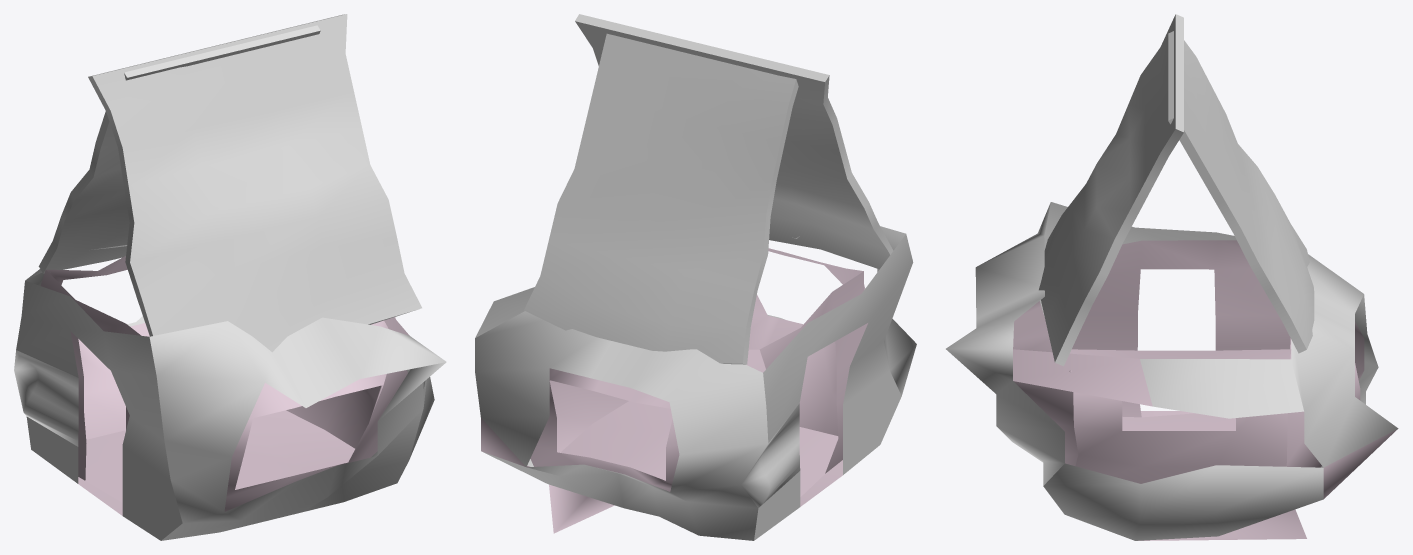
Rendered from warpedhouse3.fbx.
3 renders of one model, left to right at view 1: azimuth 30°, elevation 25°; view 2: azimuth 150°, elevation 25°; view 3: azimuth 270°, elevation 25°, orthographic. The views are drawn at different scales.
Parts seen in each view (by area): view 1: pCube60, pCube1, pCube94, pCube58; view 2: pCube58, pCube1, pCube94, pCube60; view 3: pCube1, pCube94, pCube60, pCube58.
Part boxes in pixels (bbox=[...]): pCube60: bbox=[88, 14, 421, 352]; pCube1: bbox=[14, 245, 446, 540]; pCube94: bbox=[40, 256, 407, 511]; pCube58: bbox=[38, 25, 320, 273]; pCube58: bbox=[524, 33, 798, 364]; pCube1: bbox=[475, 226, 916, 540]; pCube94: bbox=[530, 248, 867, 496]; pCube60: bbox=[575, 14, 893, 269]; pCube1: bbox=[946, 202, 1398, 540]; pCube94: bbox=[1013, 240, 1364, 483]; pCube60: bbox=[1039, 14, 1183, 366]; pCube58: bbox=[1168, 31, 1314, 353].
Size of the model in its own units: 37.88 by 50.55 by 48.22.
